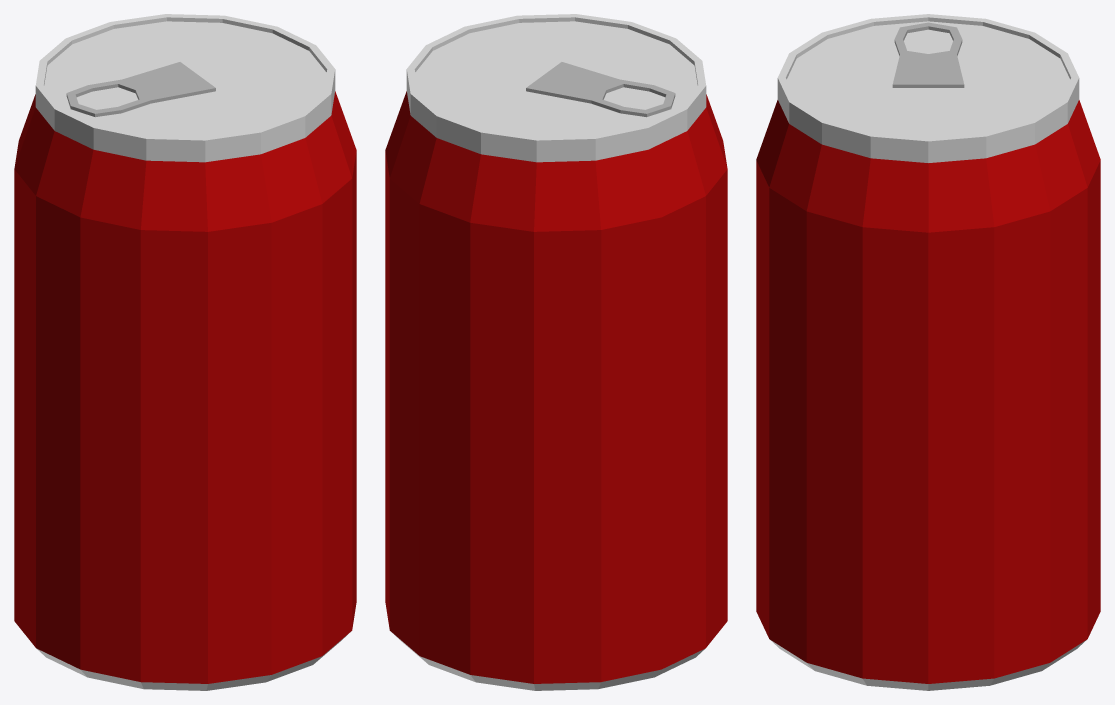
The model's file is SodaCan.fbx.
3 views of the same model, side by side, from view 1: azimuth 30°, elevation 25°; view 2: azimuth 150°, elevation 25°; view 3: azimuth 270°, elevation 25° (orthographic).
Parts seen in each view (by area): view 1: SodaCan; view 2: SodaCan; view 3: SodaCan.
Boxes of the visible parts, x1,y1,x2,y2 form: SodaCan: (14, 14, 356, 690); SodaCan: (385, 14, 727, 690); SodaCan: (756, 14, 1100, 690).
Size of the model in its own units: 14.42 by 25.18 by 14.42.
